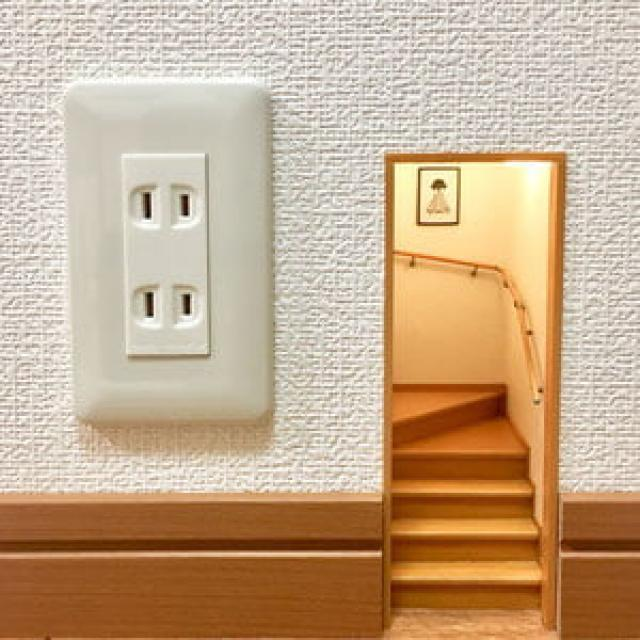typeb: (58, 52, 317, 456)
